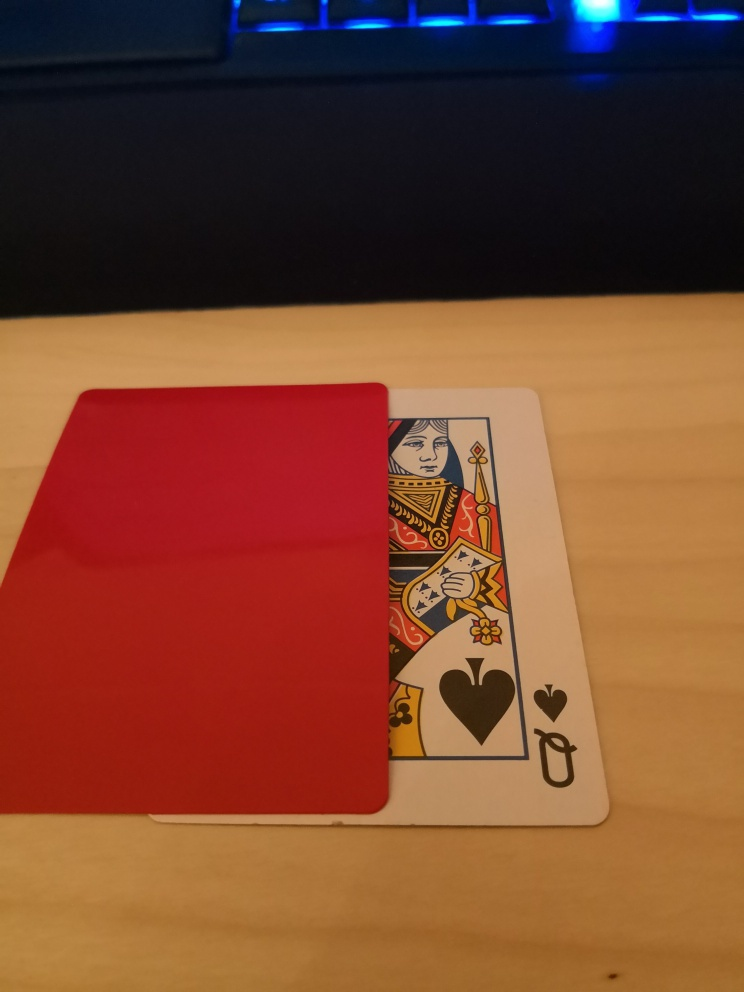queen: (146, 386, 612, 826)
